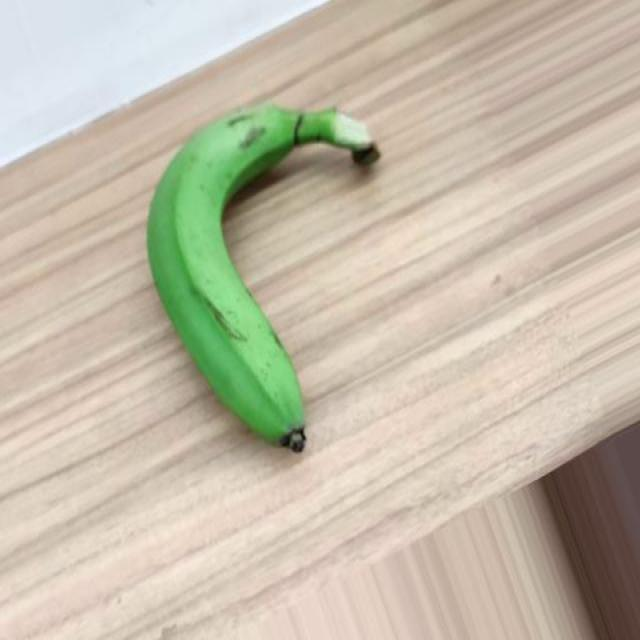Unripe: (146, 100, 380, 457)
